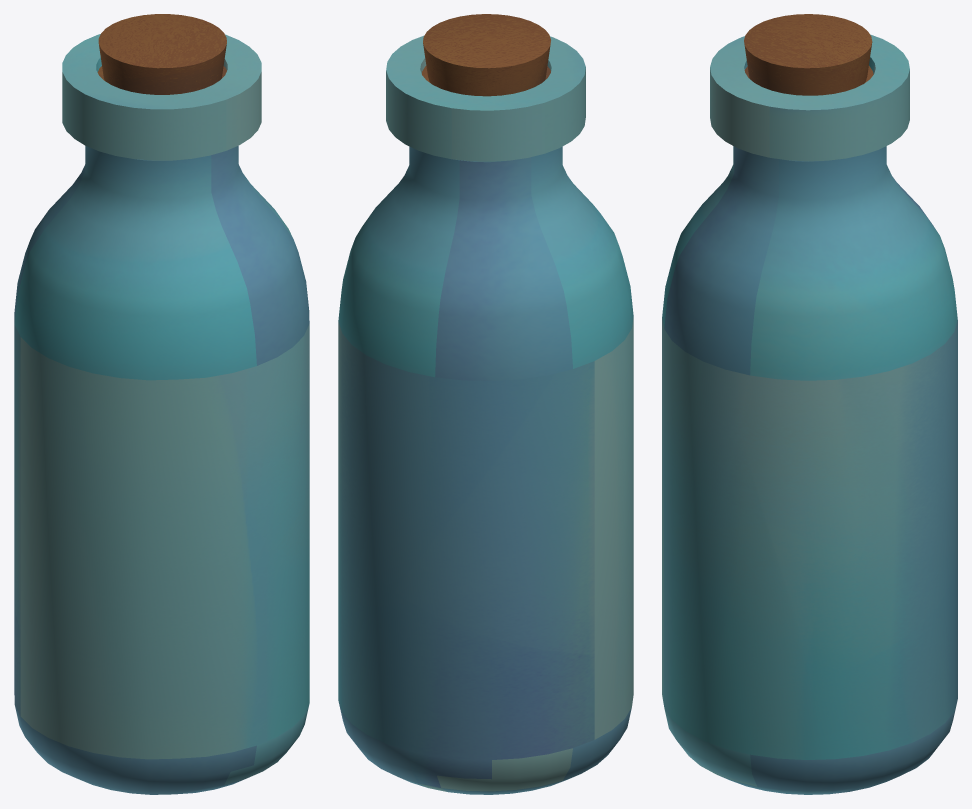
Rendered from Potion Jar 1.fbx.
3 renders of one model, left to right at view 1: azimuth 30°, elevation 25°; view 2: azimuth 150°, elevation 25°; view 3: azimuth 270°, elevation 25°, orthographic.
Visible parts, largest first — view 1: Plane.010; view 2: Plane.010; view 3: Plane.010.
Boxes of the visible parts, box(x1,y1,x2,y2) form: Plane.010: box(14, 14, 309, 794); Plane.010: box(338, 14, 633, 794); Plane.010: box(662, 14, 957, 794).
Size of the model in its own units: 21.84 by 58.39 by 21.84.
